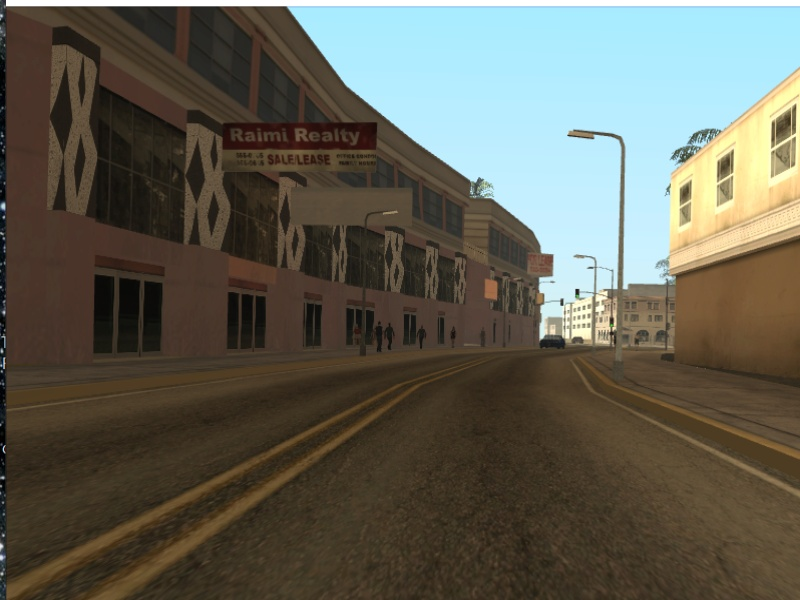person: (375, 322, 384, 354), (385, 323, 395, 350), (448, 329, 457, 359), (417, 327, 427, 351)
pole: (616, 139, 628, 377), (358, 213, 371, 355), (588, 257, 599, 353)
vehicle: (538, 333, 566, 353)
